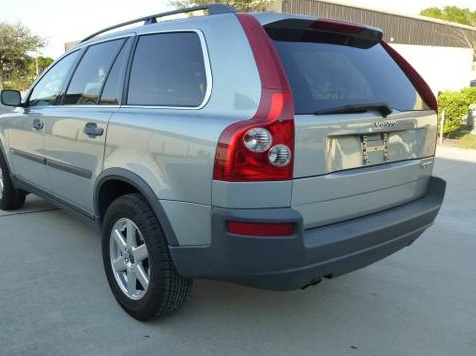volvo: (1, 2, 475, 329)
